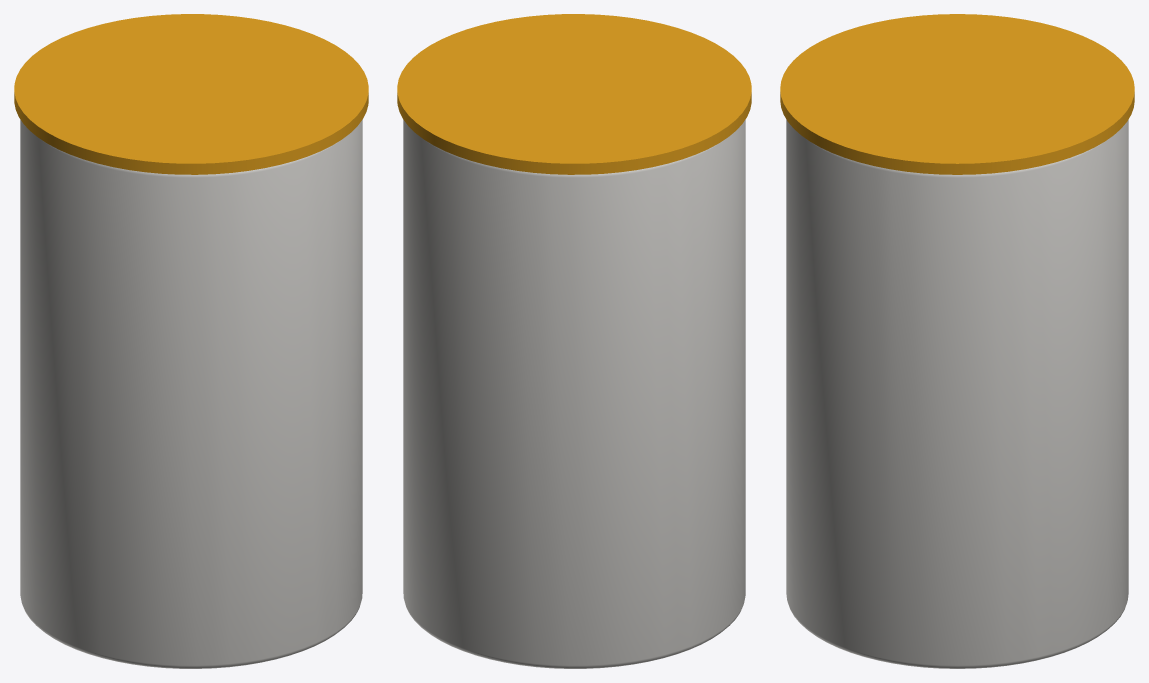
Rendered from podium.glb.
The picture shows the model from 3 angles, left to right: view 1: azimuth 30°, elevation 25°; view 2: azimuth 150°, elevation 25°; view 3: azimuth 270°, elevation 25°; orthographic projection.
Visible parts, largest first — view 1: podium; view 2: podium; view 3: podium.
Part boxes in pixels (x1,y1,x2,y2): podium: (14,14,368,668); podium: (397,14,751,668); podium: (780,14,1134,668).
Bounding box in the file's own units: 0.58 × 0.92 × 0.58.
